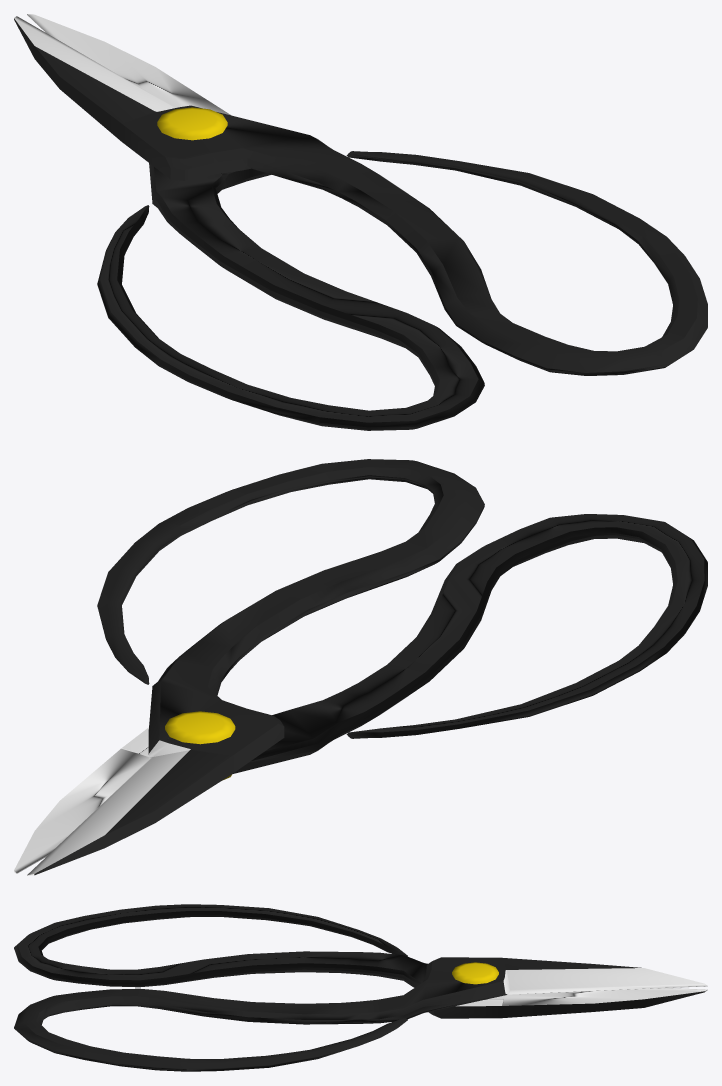
Rendered from trimmers.fbx.
The picture shows the model from 3 angles, top to bottom: view 1: azimuth 30°, elevation 25°; view 2: azimuth 150°, elevation 25°; view 3: azimuth 270°, elevation 25°; orthographic projection. The views are drawn at different scales.
Parts seen in each view (by area): view 1: Cube, Cube.001, Pin; view 2: Cube, Cube.001, Pin; view 3: Cube, Cube.001, Pin.
Part boxes in pixels (bbox=[...]): Cube: bbox=[14, 16, 707, 375]; Cube.001: bbox=[27, 14, 484, 430]; Pin: bbox=[157, 107, 227, 140]; Cube: bbox=[27, 459, 484, 875]; Cube.001: bbox=[14, 514, 707, 873]; Pin: bbox=[165, 711, 235, 779]; Cube: bbox=[14, 957, 707, 1071]; Cube.001: bbox=[14, 904, 707, 1018]; Pin: bbox=[452, 962, 498, 984].
Bounding box in the file's own units: 265 × 24.18 × 470.
